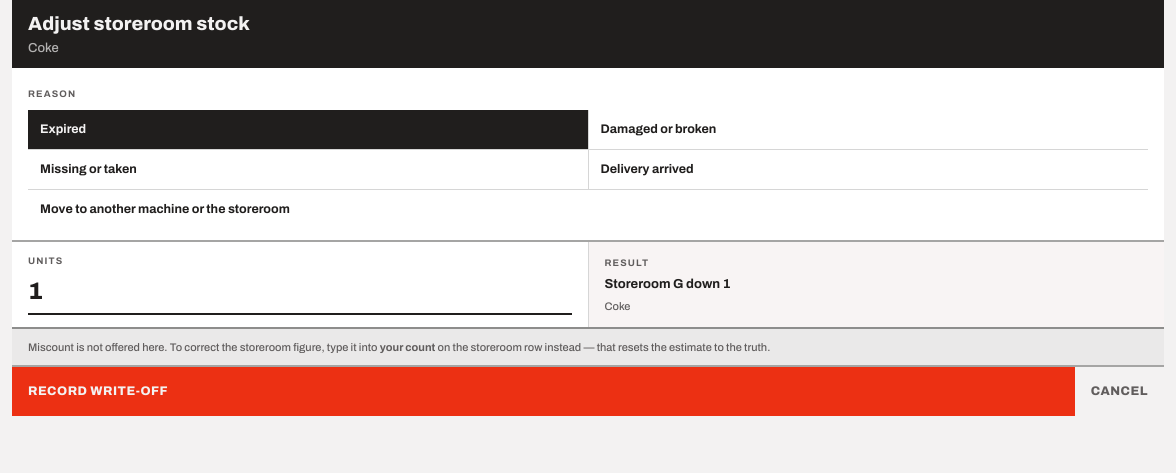
AdjustmentSheet › refuses a quantity of zero rather than writing a no-op movement
This screenshot has width=1176, height=473.
Replace the text in the number field labelled "Units" with "0" at (300, 294), box top-left (28, 272), bottom-right (572, 314)
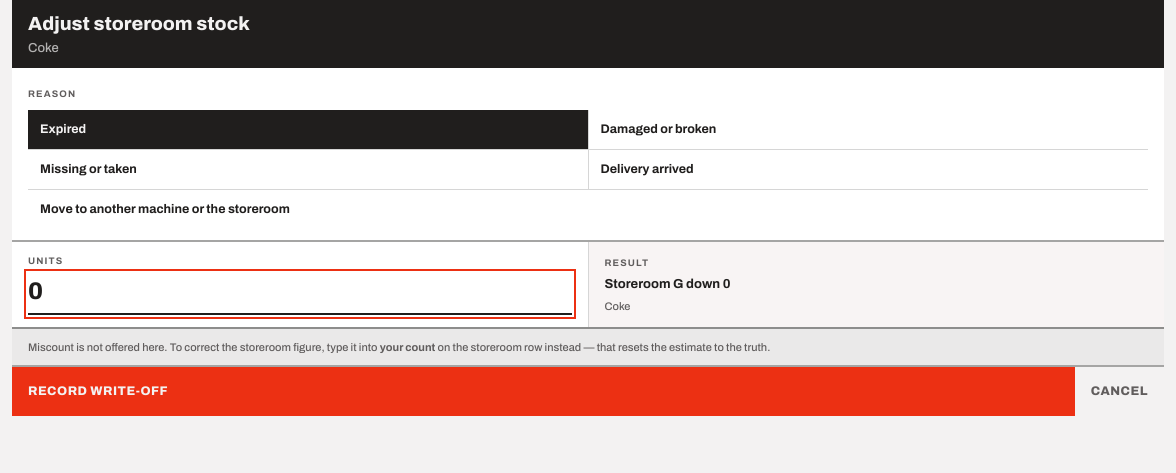
Click the button "Record write-off" at (98, 391), box top-left (12, 367), bottom-right (1075, 416)
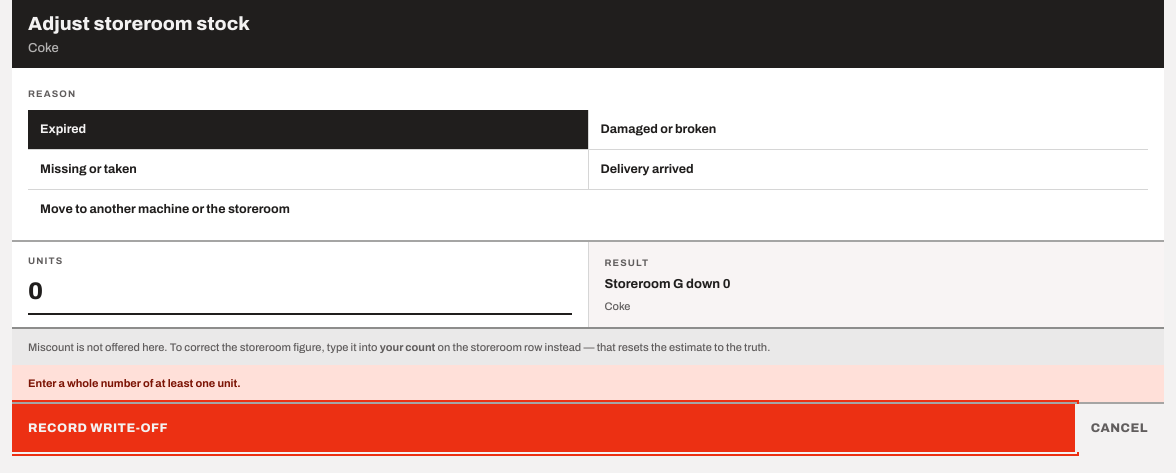
Expected: the message "Enter a whole number of at least one unit." is shown, top-left (12, 365), bottom-right (1164, 402)
